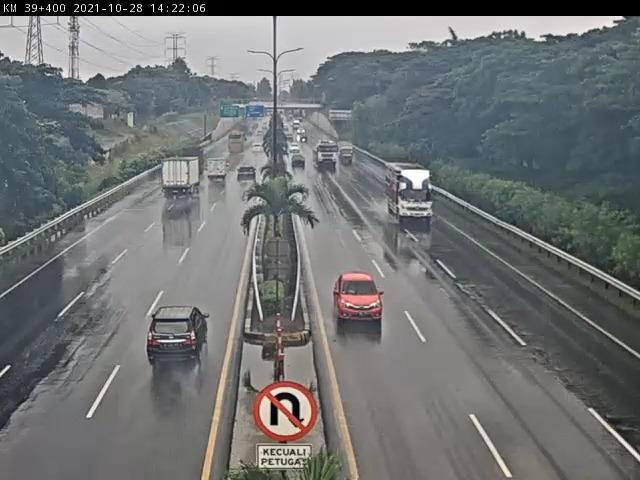car: (147, 306, 212, 361), (333, 270, 385, 322), (234, 163, 261, 187)
truck: (379, 162, 436, 225), (163, 157, 204, 197), (207, 158, 232, 185)
